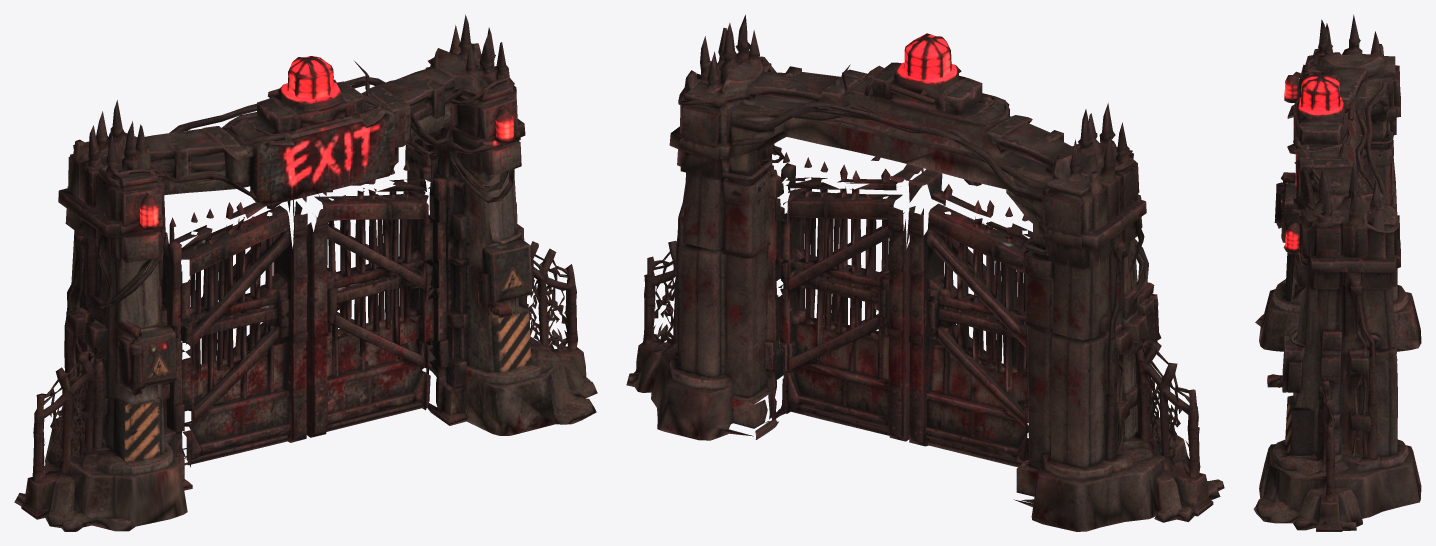
File: gate.glb
The picture shows the model from 3 angles, left to right: view 1: azimuth 30°, elevation 25°; view 2: azimuth 150°, elevation 25°; view 3: azimuth 270°, elevation 25°; orthographic projection. The views are drawn at different scales.
Visible parts, largest first — view 1: frame, leaf_l, leaf_r; view 2: frame, leaf_r, leaf_l; view 3: frame.
Boxes of the visible parts, x1,y1,x2,y2 form: frame: (14, 14, 597, 531); leaf_l: (174, 205, 307, 467); leaf_r: (293, 179, 437, 437); frame: (626, 14, 1224, 531); leaf_r: (755, 177, 923, 441); leaf_l: (908, 203, 1032, 467); frame: (1253, 14, 1421, 531).
Bounding box in the file's own units: 14.69 × 9.94 × 4.46.
Materials: 1 (1 with a texture image).
